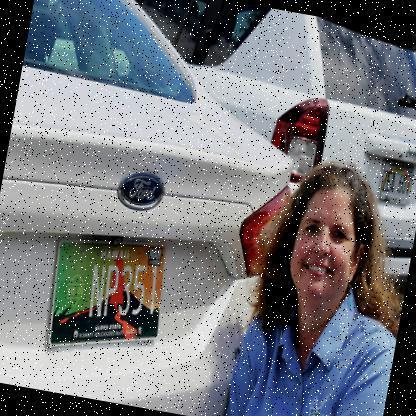License-Plate: (39, 218, 184, 366), (375, 157, 415, 210)
